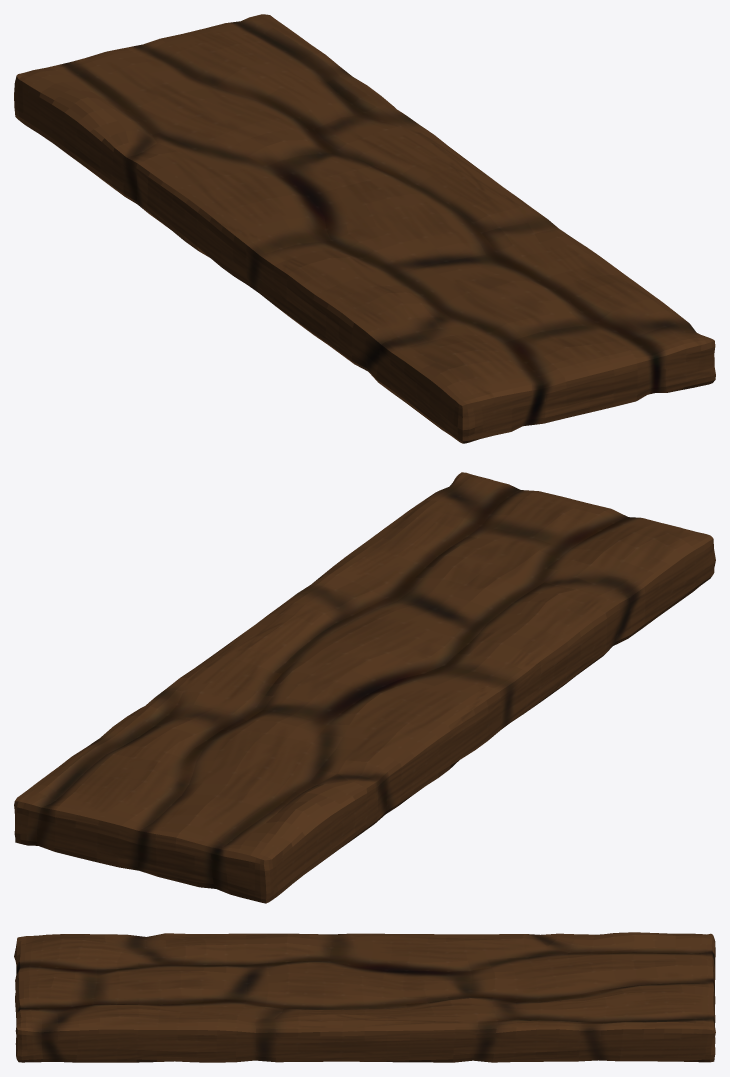
The model's file is Starting_Platform.fbx.
The picture shows the model from 3 angles, top to bottom: view 1: azimuth 30°, elevation 25°; view 2: azimuth 150°, elevation 25°; view 3: azimuth 270°, elevation 25°; orthographic projection. The views are drawn at different scales.
Visible parts, largest first — view 1: Starting_Platform:ZBrushPolyMesh3D; view 2: Starting_Platform:ZBrushPolyMesh3D; view 3: Starting_Platform:ZBrushPolyMesh3D.
Part boxes in pixels (left/top/right/bottom): Starting_Platform:ZBrushPolyMesh3D: left=14, top=14, right=715, bottom=443; Starting_Platform:ZBrushPolyMesh3D: left=14, top=472, right=715, bottom=903; Starting_Platform:ZBrushPolyMesh3D: left=14, top=932, right=715, bottom=1062.
Size of the model in its own units: 1.98 by 0.3839 by 6.01.
